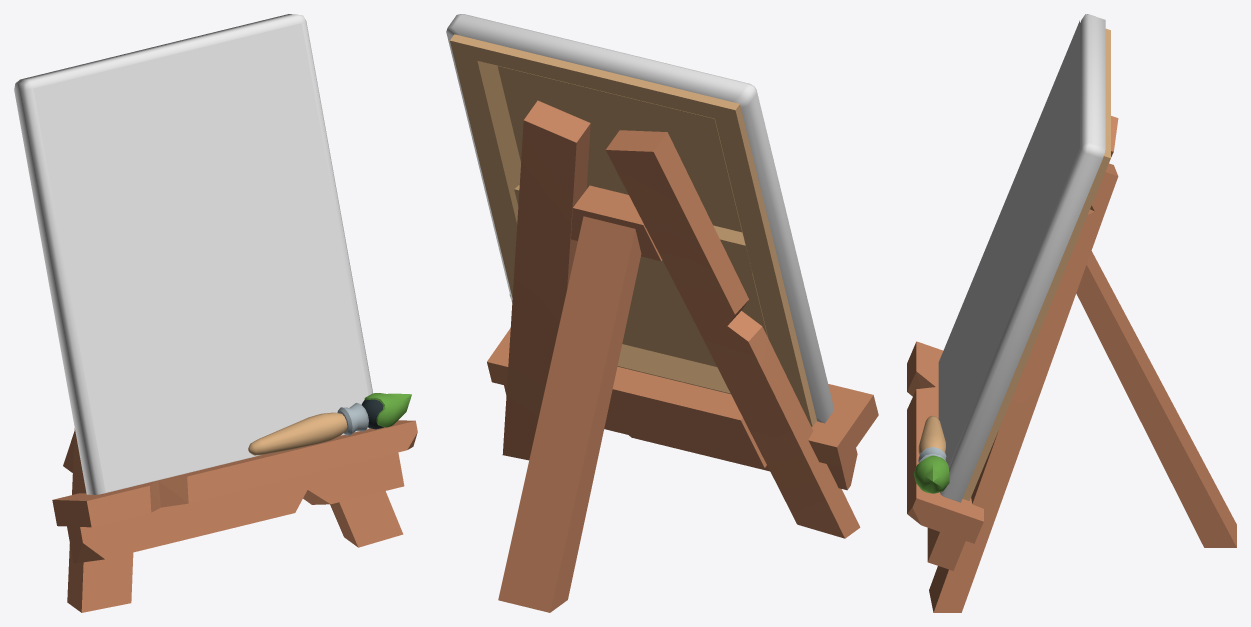
The model's file is easel_with_painting.dae.
The picture shows the model from 3 angles, left to right: view 1: azimuth 30°, elevation 25°; view 2: azimuth 150°, elevation 25°; view 3: azimuth 270°, elevation 25°; orthographic projection. The views are drawn at different scales.
Parts seen in each view (by area): view 1: easel_painting_textured, easel_with_painting, easel_paintbrush; view 2: easel_with_painting, easel_painting_textured; view 3: easel_painting_textured, easel_with_painting, easel_paintbrush.
Part boxes in pixels (x1,y1,x2,y2): easel_painting_textured: [14, 14, 372, 494]; easel_with_painting: [52, 420, 417, 612]; easel_paintbrush: [248, 393, 411, 455]; easel_with_painting: [487, 100, 878, 612]; easel_painting_textured: [446, 14, 834, 426]; easel_painting_textured: [938, 14, 1110, 502]; easel_with_painting: [907, 116, 1236, 612]; easel_paintbrush: [914, 415, 949, 493].
Size of the model in its own units: 1.4 by 1.23 by 1.88.
